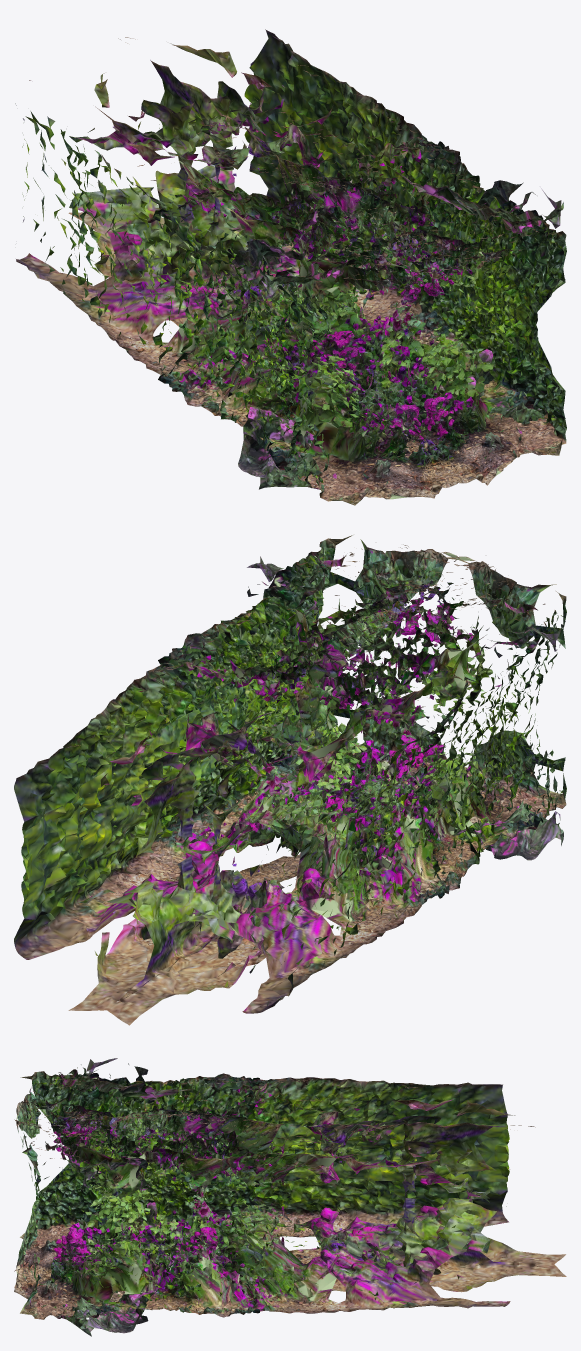
File: garden01-s.glb
The picture shows the model from 3 angles, top to bottom: view 1: azimuth 30°, elevation 25°; view 2: azimuth 150°, elevation 25°; view 3: azimuth 270°, elevation 25°; orthographic projection. The views are drawn at different scales.
Visible parts, largest first — view 1: f21.2; view 2: f21.2; view 3: f21.2.
Boxes of the visible parts, x1=… form: f21.2: x1=15, y1=29, x2=566, y2=505; f21.2: x1=14, y1=535, x2=566, y2=1025; f21.2: x1=14, y1=1058, x2=566, y2=1336.
Size of the model in its own units: 2.72 by 2.06 by 5.65.
1 material, 1 textured.
